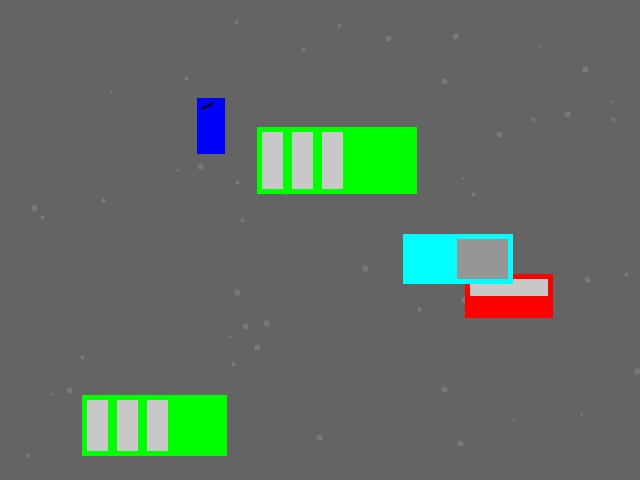bus: (257, 127, 416, 193), (82, 395, 226, 455)
car: (465, 274, 552, 317)
motorcycle: (197, 98, 224, 153)
truck: (403, 234, 512, 283)
